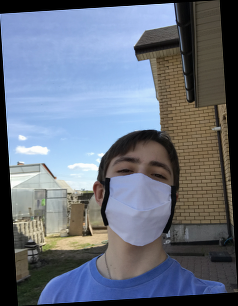with_mask: (99, 154, 177, 247)
